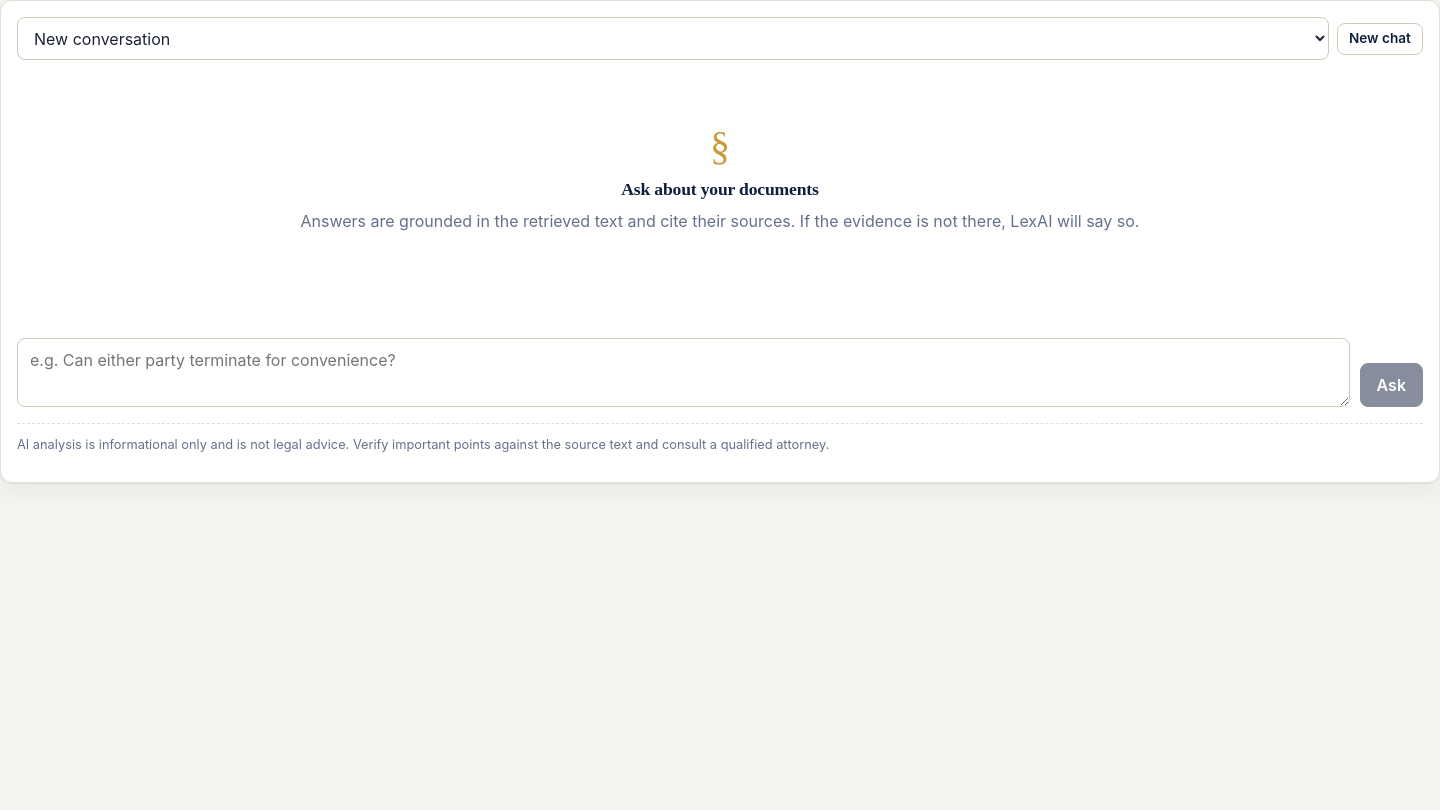
Test case: chat failure keeps the question retryable and recovers
In the text box named "Your question": {"x": 684, "y": 372} left=17, top=338, right=1350, bottom=407, type "Hello there?"
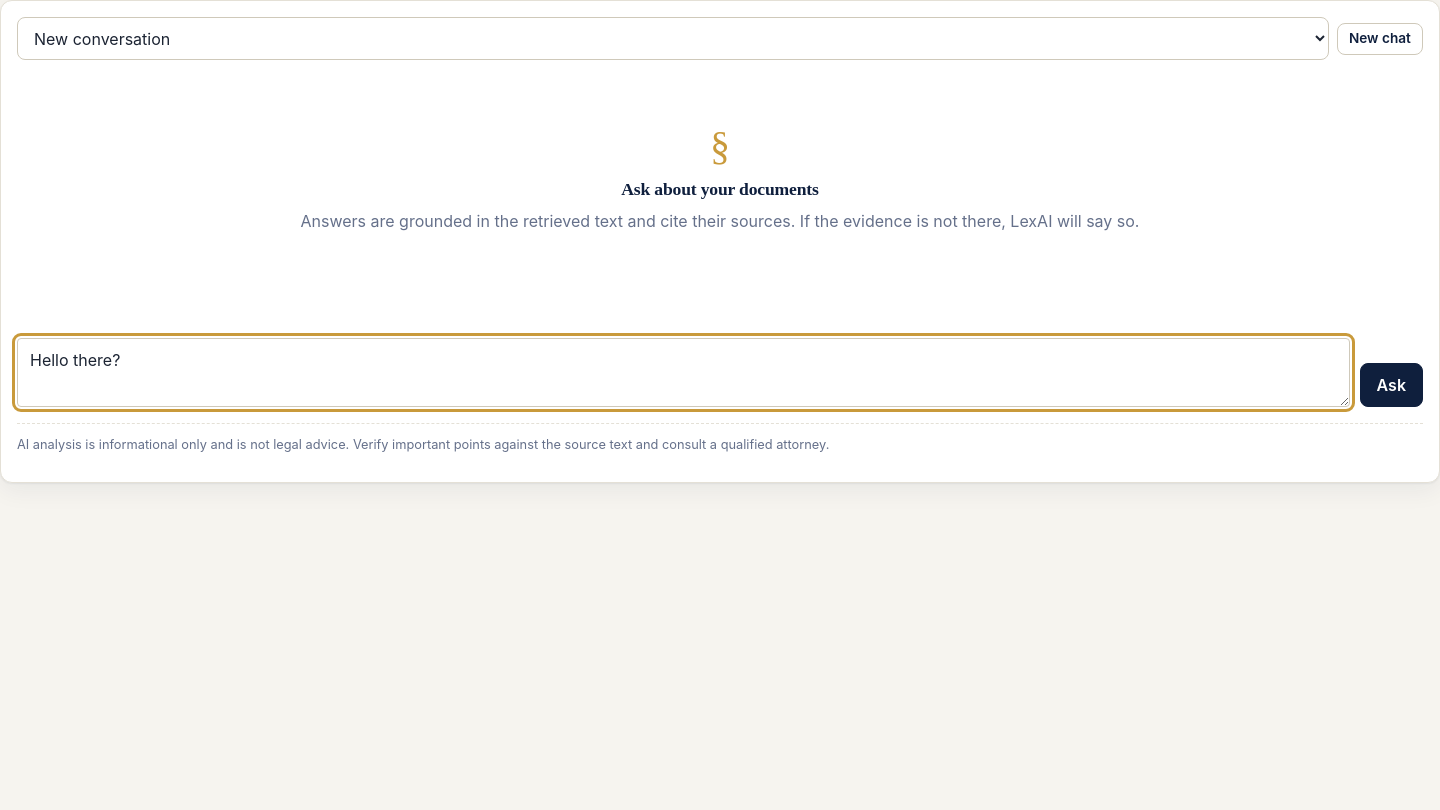
Click the button "Ask": {"x": 1391, "y": 385} left=1360, top=363, right=1423, bottom=407
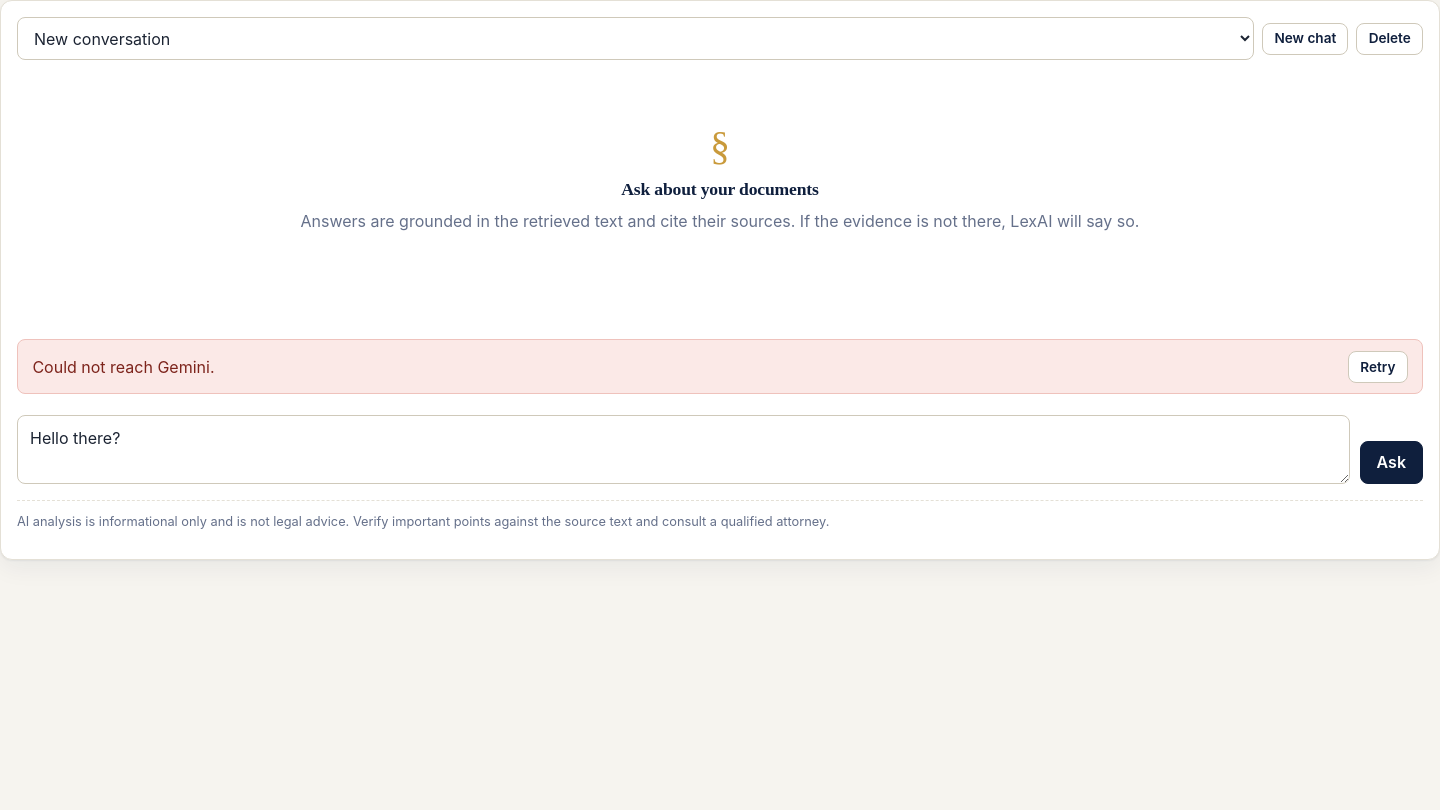
Check: the message shows "Could not reach Gemini.", box left=32, top=357, right=214, bottom=377
Click the button "Retry": {"x": 1378, "y": 367} left=1348, top=351, right=1408, bottom=383
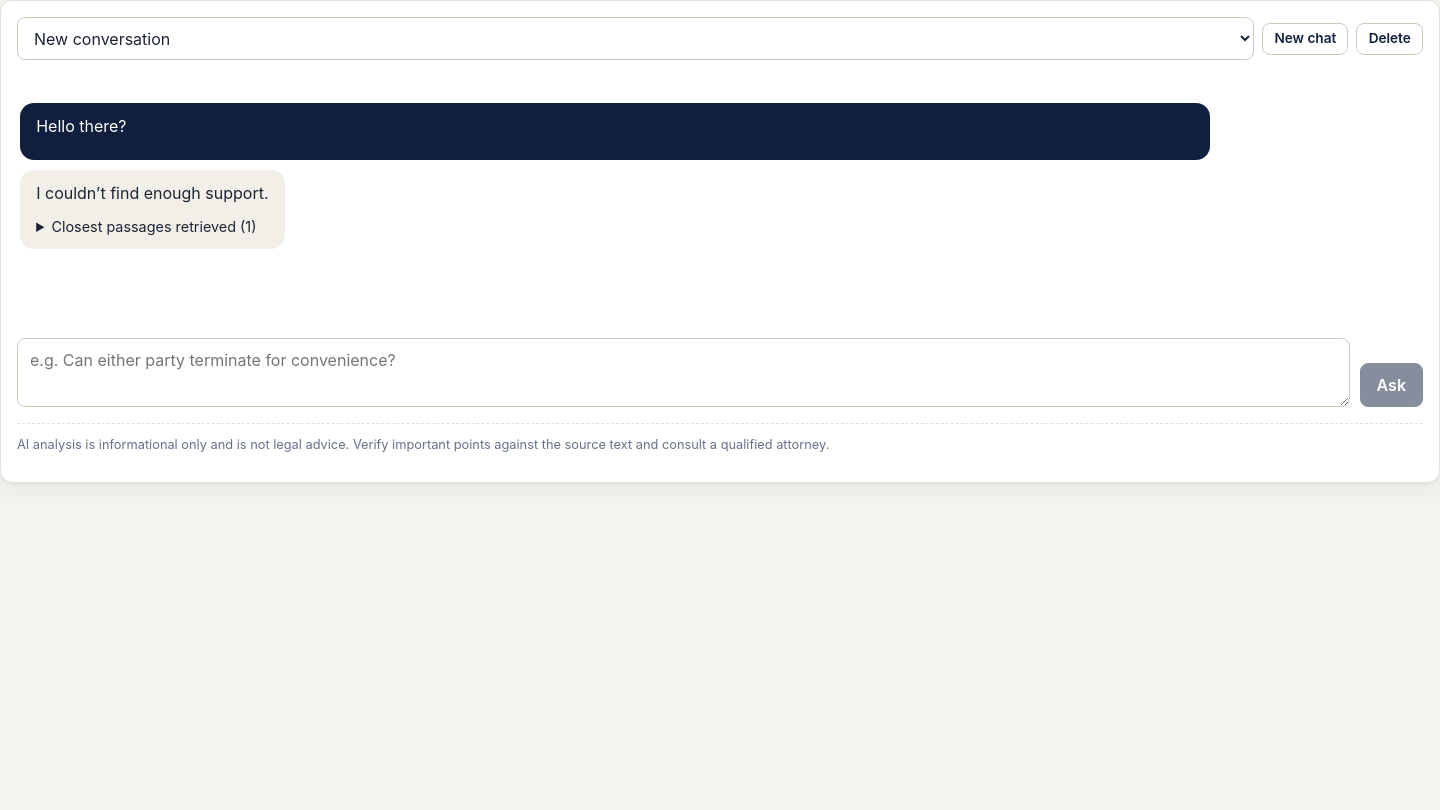
Check: the text "I couldn’t find enough support." is shown, box left=36, top=181, right=268, bottom=205
Check: the heading "Closest passages retrieved (1)" is shown, box left=36, top=216, right=268, bottom=238
